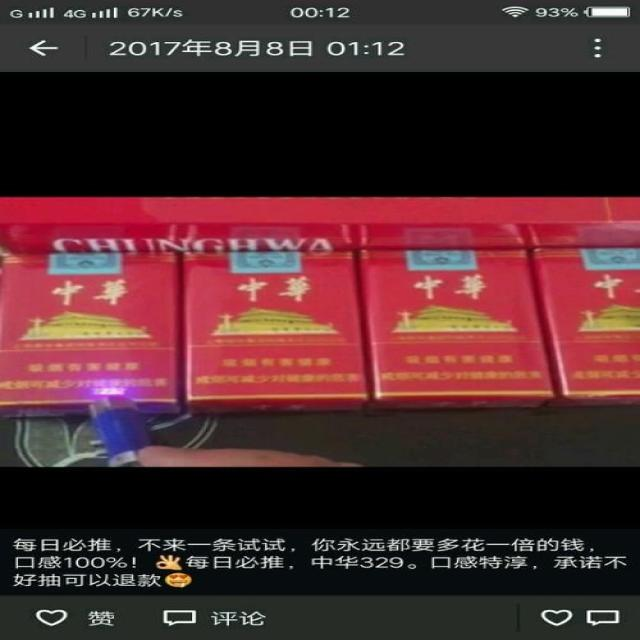box: (357, 249, 557, 410), (0, 251, 183, 419), (182, 251, 369, 415), (527, 246, 640, 406)
